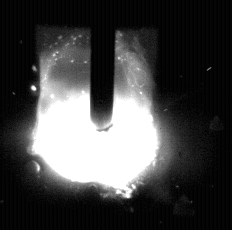arame: (91, 0, 116, 133)
poca: (31, 0, 160, 230)
